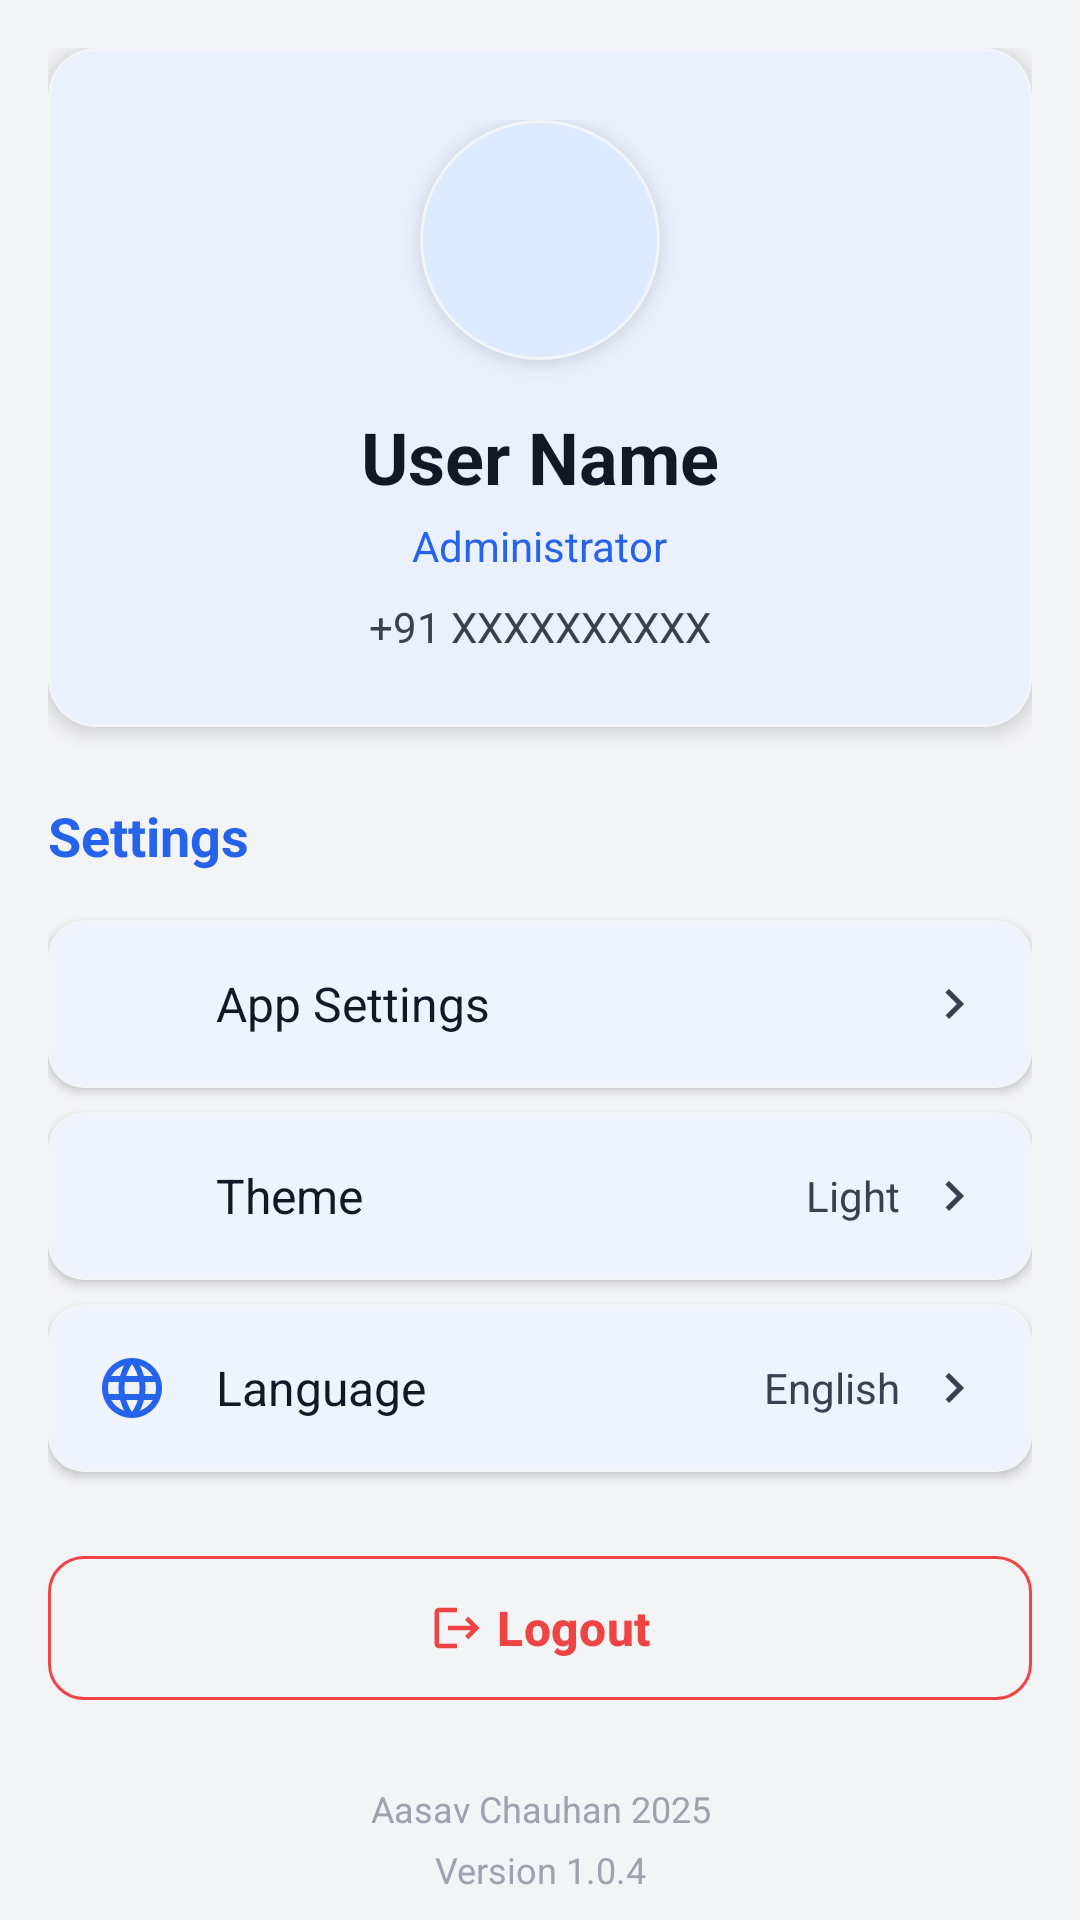

Screen size 1080px x 1920px. Icon name, then its center in pixels as (x=x, y=y):
Arrow icon: (x=954, y=1004), (x=954, y=1196), (x=954, y=1388)
